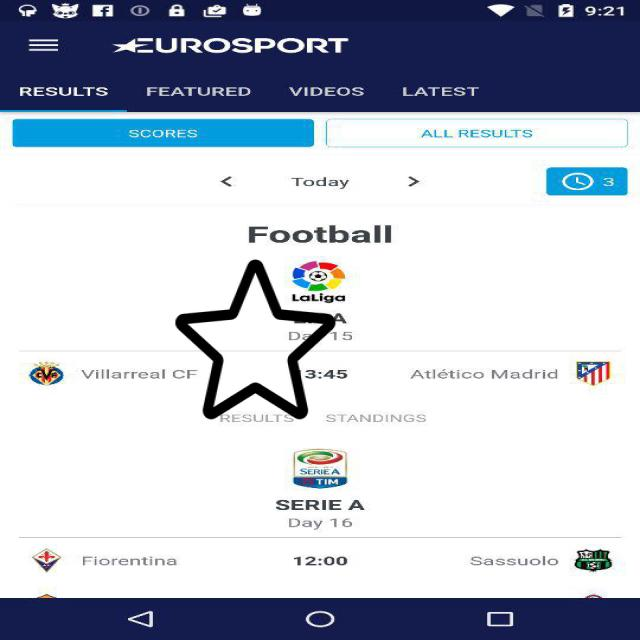forced continuity: (176, 256, 336, 423)
